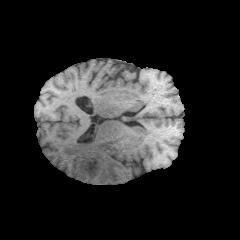glioma: (64, 137, 131, 182)
